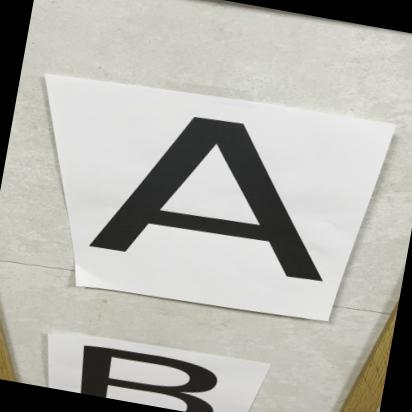seat: (74, 87, 385, 297)
